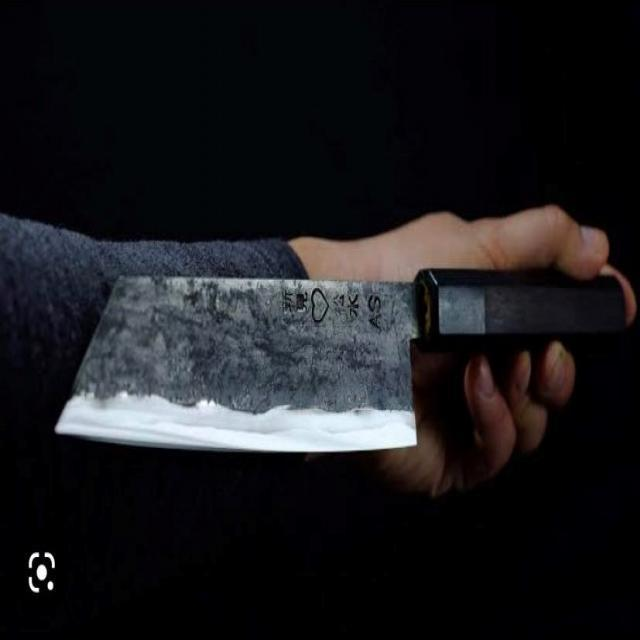Knife: (50, 278, 625, 452)
